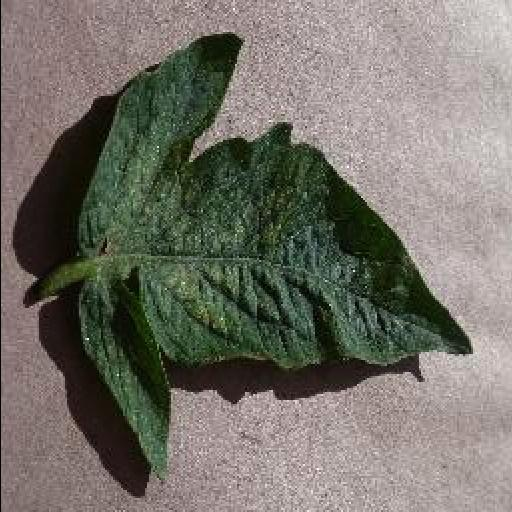disease_tomato: (72, 30, 476, 486)
